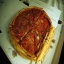pizza: (8, 5, 53, 63)
